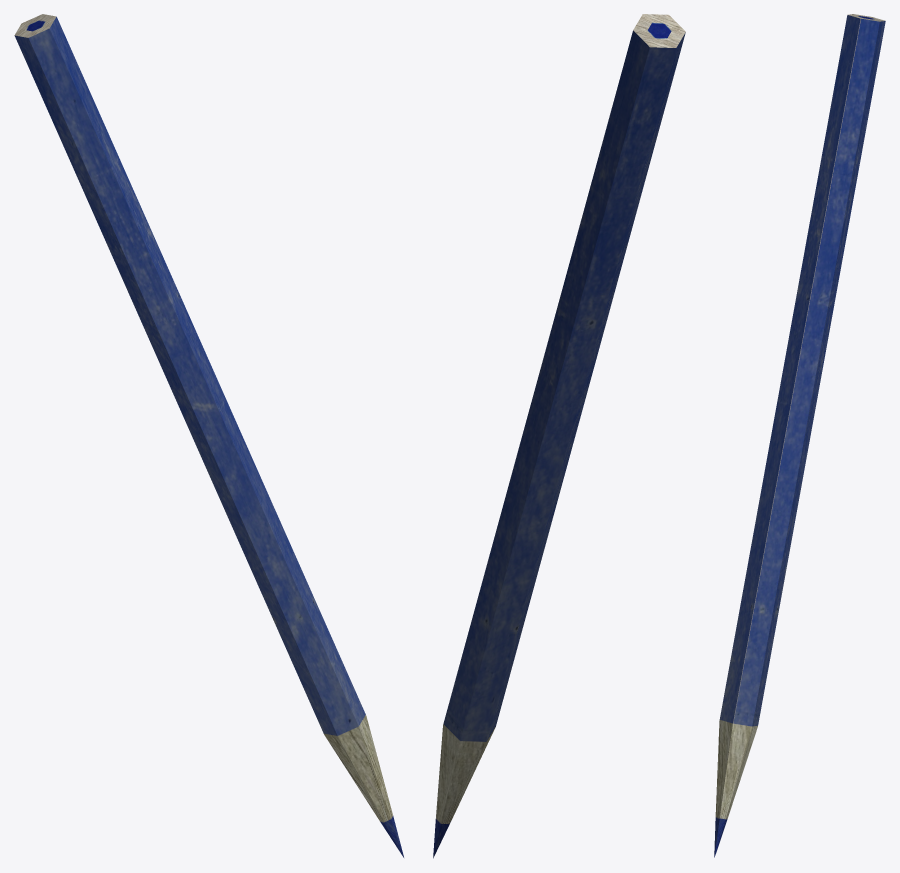
The model's file is LapizAzulOscuro.DAE.
The picture shows the model from 3 angles, left to right: view 1: azimuth 30°, elevation 25°; view 2: azimuth 150°, elevation 25°; view 3: azimuth 270°, elevation 25°; orthographic projection. The views are drawn at different scales.
Parts seen in each view (by area): view 1: Box_Lapiz04; view 2: Box_Lapiz04; view 3: Box_Lapiz04.
Boxes of the visible parts, x1=… form: Box_Lapiz04: x1=14, y1=14, x2=403, y2=857; Box_Lapiz04: x1=433, y1=14, x2=685, y2=858; Box_Lapiz04: x1=714, y1=14, x2=885, y2=857.
Bounding box in the file's own units: 61.91 × 35.69 × 167.
1 material, 1 textured.
